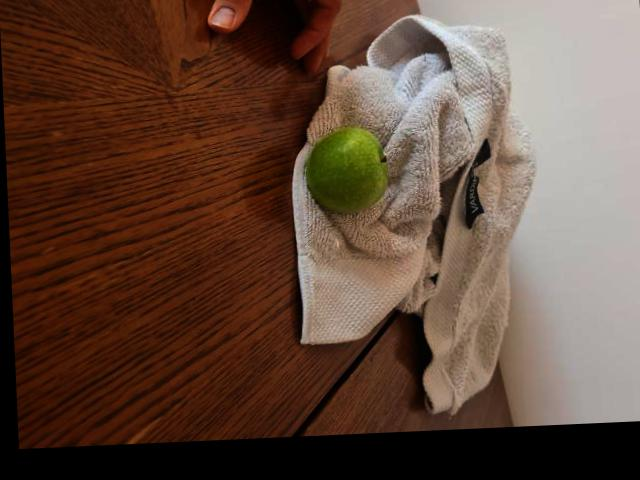apple: (297, 119, 389, 211)
